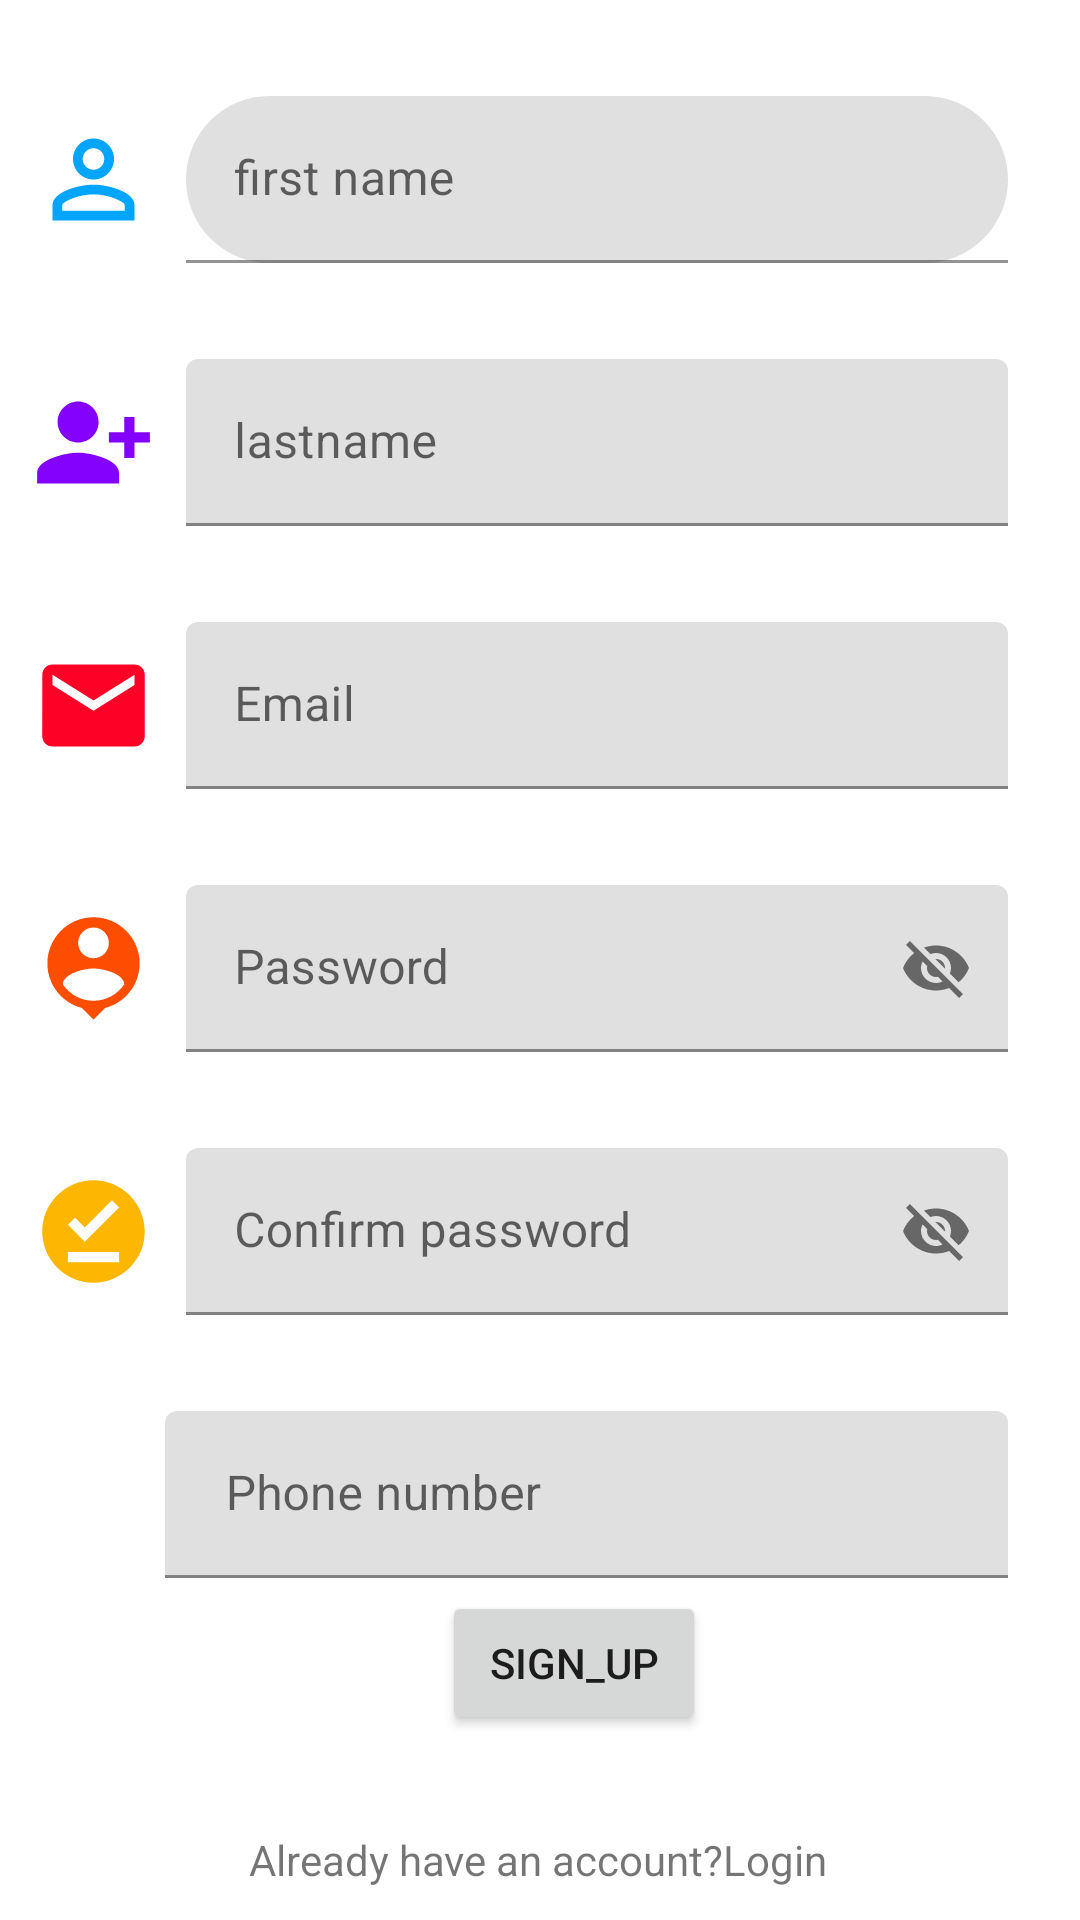

Icon bounding boxes for this 1080px x 1920px phone screenshot, format (x1, y1, x2, y2):
offline pin: (42, 1180, 145, 1283)
perm identity: (52, 138, 135, 221)
person add: (37, 401, 150, 484)
person pin: (47, 917, 140, 1020)
